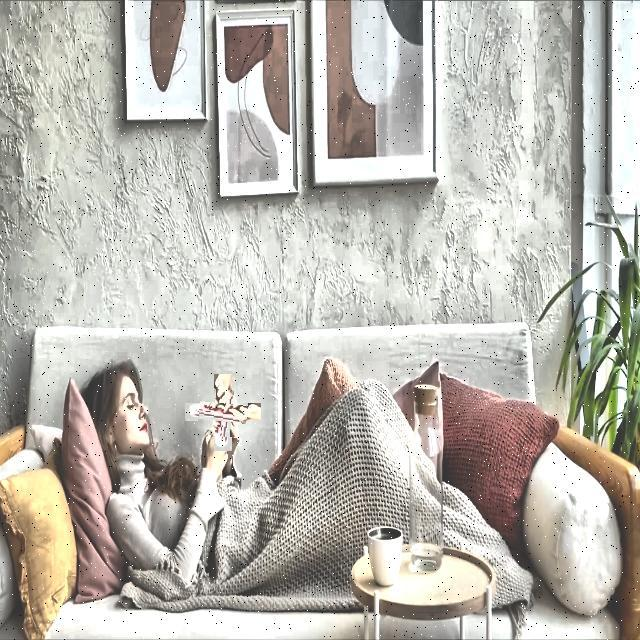Phone: (198, 388, 248, 437)
